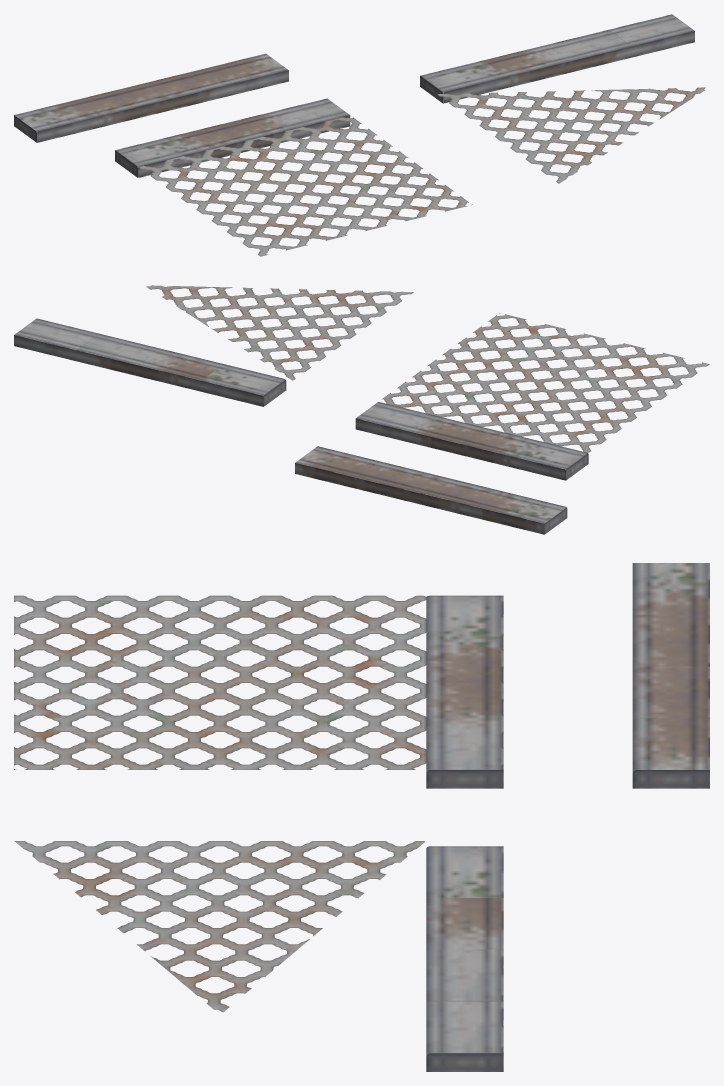
File: Mesh_Walkways.fbx
3 renders of one model, top to bottom at view 1: azimuth 30°, elevation 25°; view 2: azimuth 150°, elevation 25°; view 3: azimuth 270°, elevation 25°, orthographic. The views are drawn at different scales.
Parts seen in each view (by area): view 1: SteelMesh, GirderLongAllRust, GirderLong, SteelMeshAngled, Girder; view 2: SteelMesh, GirderLong, GirderLongAllRust, Girder, SteelMeshAngled; view 3: SteelMesh, SteelMeshAngled, GirderLongAllRust, GirderLong, Girder.
Boxes of the visible parts, <box> form: SteelMesh: <box>139,117,472,256</box>; GirderLongAllRust: <box>14,53,288,142</box>; GirderLong: <box>420,14,694,103</box>; SteelMeshAngled: <box>437,87,705,183</box>; Girder: <box>115,98,350,177</box>; SteelMesh: <box>382,313,709,452</box>; GirderLong: <box>14,318,286,406</box>; GirderLongAllRust: <box>295,446,567,534</box>; Girder: <box>355,402,588,480</box>; SteelMeshAngled: <box>146,285,413,380</box>; SteelMesh: <box>14,595,426,769</box>; SteelMeshAngled: <box>14,841,425,1012</box>; GirderLongAllRust: <box>632,563,709,788</box>; GirderLong: <box>426,846,503,1071</box>; Girder: <box>426,595,503,788</box>.
Bounding box in the file's own units: 562 × 10 × 338.
1 material, 1 textured.
